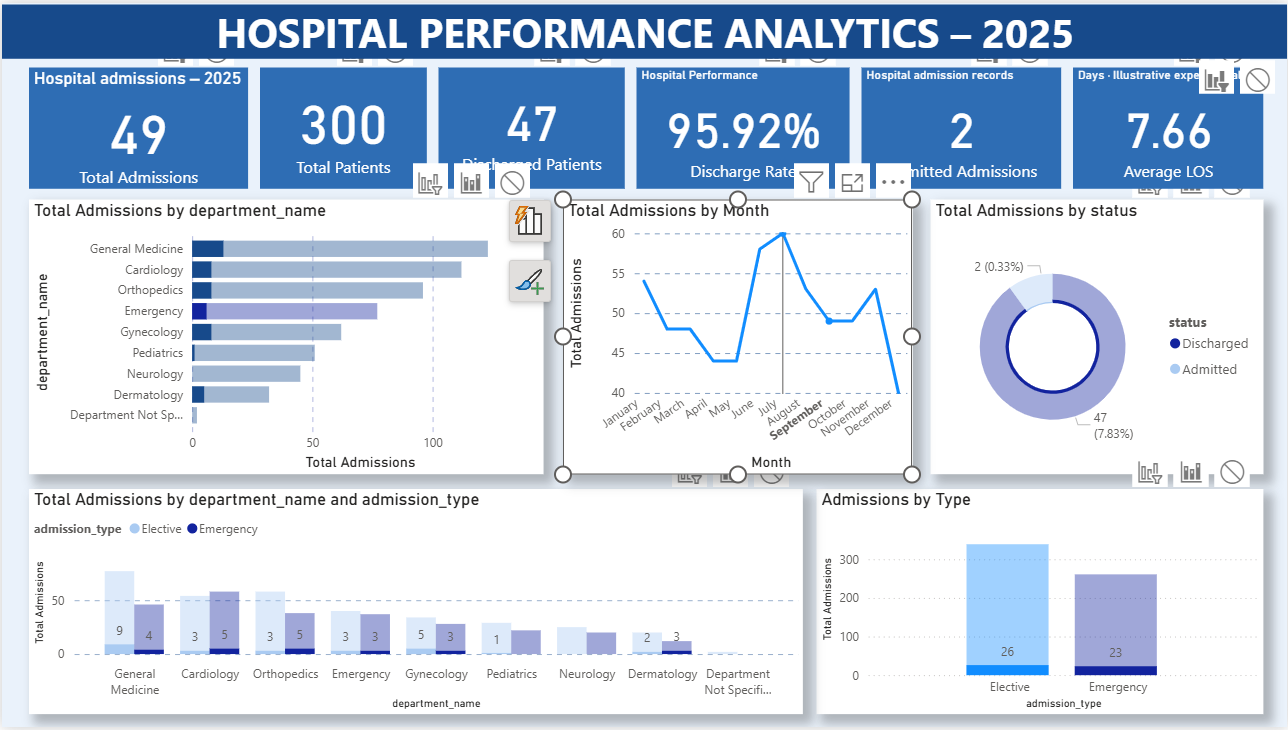

This screenshot's page, from the dashboard's own definition file:
{"tool":"powerbi","page":{"name":"Page 1","canvas":[1280,720],"ordinal":0},"visuals":[{"type":"card","title":"Hospital admissions – 2025","fields":{"Values":["hospital_analytics admissions.Total Admissions"]},"box":[26.9,64.2,217.9,120.9],"z":0},{"type":"card","title":"Total Patients","fields":{"Values":["hospital_analytics admissions.Total Patients"]},"box":[256.7,64.2,165.7,120.9],"z":1000},{"type":"donutChart","fields":{"Category":["hospital_analytics admissions.status"],"Y":["hospital_analytics admissions.Total Admissions"]},"box":[923.9,195.5,331.3,273.1],"z":2000},{"type":"card","title":"Hospital Performance","fields":{"Values":["hospital_analytics admissions.Discharge Rate"]},"box":[631.3,64.2,211.9,120.9],"z":3000},{"type":"card","title":"Hospital admission records","fields":{"Values":["hospital_analytics admissions.Admitted Admissions"]},"box":[855.2,64.2,198.5,120.9],"z":4000},{"type":"card","fields":{"Values":["hospital_analytics admissions.Discharged Patients"]},"box":[434.3,64.2,185.1,120.9],"z":5000},{"type":"card","title":"Days · Illustrative expected value","fields":{"Values":["hospital_analytics admissions.Average LOS"]},"box":[1065.7,64.2,189.6,120.9],"z":6000},{"type":"clusteredBarChart","fields":{"Category":["hospital_analytics departments.department_name"],"Y":["hospital_analytics admissions.Total Admissions"]},"box":[26.9,195.5,511.9,273.1],"z":7000},{"type":"lineChart","fields":{"Category":["hospital_analytics admissions.admission_date.Variation.Date Hierarchy.Month"],"Y":["hospital_analytics admissions.Total Admissions"]},"box":[558.2,195.5,347.8,273.1],"z":8000},{"type":"clusteredColumnChart","title":"Admissions by Type","fields":{"Category":["hospital_analytics admissions.admission_type"],"Y":["hospital_analytics admissions.Total Admissions"]},"box":[810.4,483.6,444.8,223.9],"z":9000},{"type":"clusteredColumnChart","fields":{"Y":["hospital_analytics admissions.Total Admissions"],"Series":["hospital_analytics admissions.admission_type"],"Category":["hospital_analytics departments.department_name"]},"box":[26.9,483.6,770.1,223.9],"z":10000},{"type":"shape","title":"HOSPITAL PERFORMANCE ANALYTICS – 2025","box":[0,1.5,1280.6,53.7],"z":11000}]}

Visuals, with their boxes in screenshot pixels (x1, y1, x2, y2):
"Hospital admissions – 2025" card: 40:64:256:184
"Total Patients" card: 268:64:433:184
donutChart - hospital_analytics admissions.status x hospital_analytics admissions.Total Admissions: 930:194:1259:465
"Hospital Performance" card: 640:64:850:184
"Hospital admission records" card: 862:64:1059:184
card - hospital_analytics admissions.Discharged Patients: 444:64:628:184
"Days · Illustrative expected value" card: 1071:64:1259:184
clusteredBarChart - hospital_analytics departments.department_name x hospital_analytics admissions.Total Admissions: 40:194:548:465
lineChart - hospital_analytics admissions.admission_date.Variation.Date Hierarchy.Month x hospital_analytics admissions.Total Admissions: 567:194:912:465
"Admissions by Type" clusteredColumnChart: 818:480:1259:702
clusteredColumnChart - hospital_analytics admissions.Total Admissions x hospital_analytics admissions.admission_type: 40:480:804:702
"HOSPITAL PERFORMANCE ANALYTICS – 2025" shape: 13:1:1284:55
